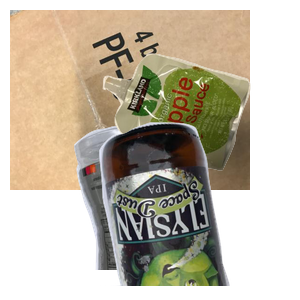cardboard: (10, 10, 250, 190)
glass: (97, 120, 300, 300)
plastic: (71, 120, 265, 300)
trash: (100, 51, 300, 214)
